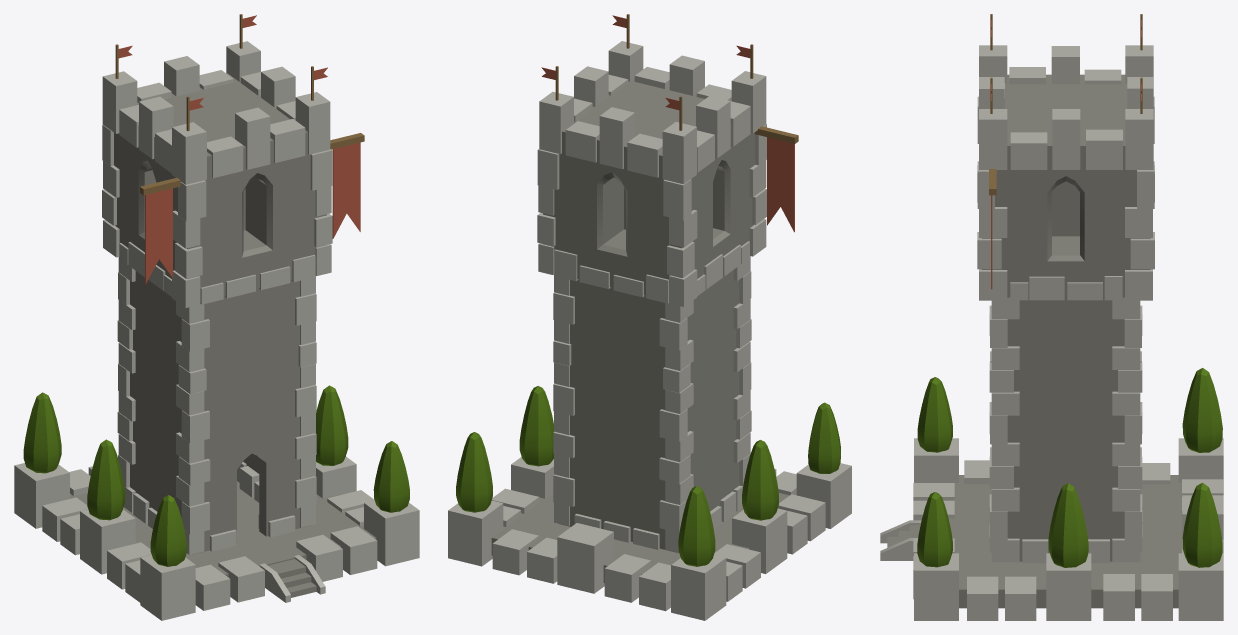
Rendered from WatchTower_SecondAge_Level3.glb.
3 views of the same model, side by side, from view 1: azimuth 30°, elevation 25°; view 2: azimuth 150°, elevation 25°; view 3: azimuth 270°, elevation 25° (orthographic). The views are drawn at different scales.
Visible parts, largest first — view 1: WatchTower_SecondAge_Level3; view 2: WatchTower_SecondAge_Level3; view 3: WatchTower_SecondAge_Level3.
Boxes of the visible parts, x1,y1,x2,y2 form: WatchTower_SecondAge_Level3: (14,14,419,620); WatchTower_SecondAge_Level3: (448,14,851,620); WatchTower_SecondAge_Level3: (880,14,1223,620).
Size of the model in its own units: 0.8133 by 1.45 by 0.8921.
Materials: 1 (1 with a texture image).
